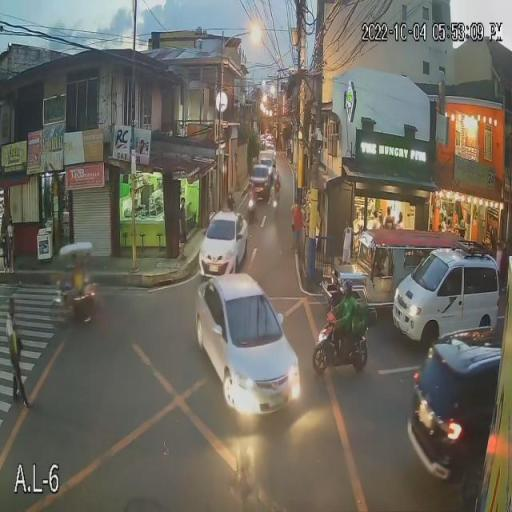helmet: (340, 279, 355, 295)
motorcycle: (311, 316, 369, 374), (243, 197, 259, 220), (271, 188, 282, 207)
rider: (326, 280, 368, 355), (246, 182, 259, 208), (272, 174, 282, 198)
